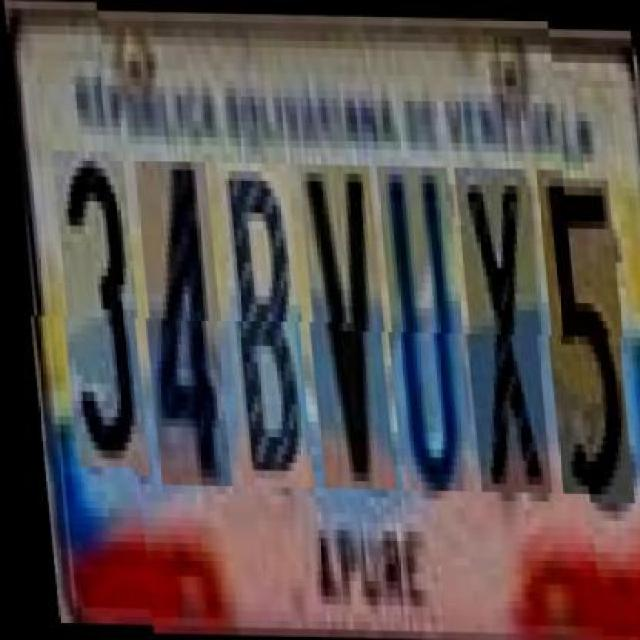3: (49, 159, 143, 476)
4: (131, 160, 226, 485)
5: (533, 167, 629, 491)
b: (213, 162, 309, 486)
u: (373, 165, 469, 489)
v: (295, 163, 390, 488)
x: (451, 166, 546, 491)
